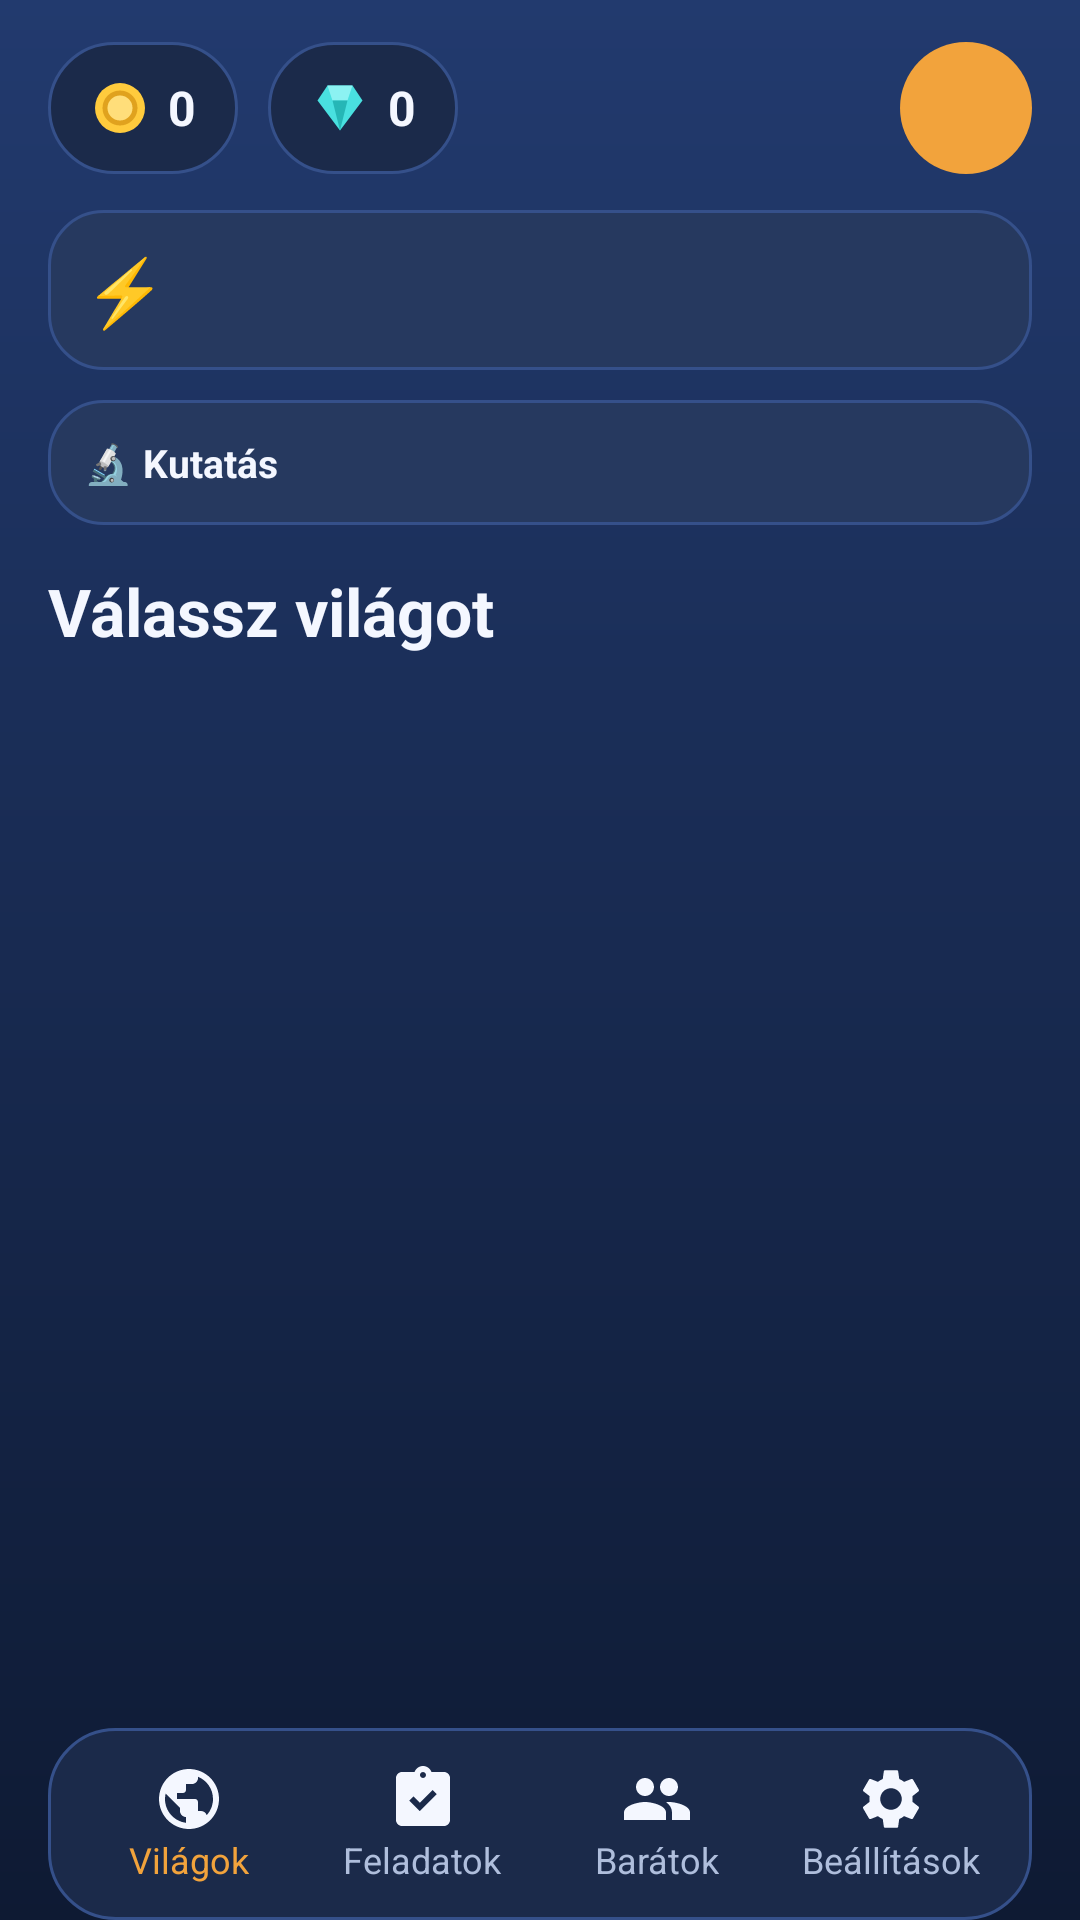

Locate icon controls on the screen. Image size 1080w x 1920h, boxes as (x1, y1, x2, y2).
coin: (95, 83, 145, 133)
gem: (317, 85, 363, 130)
